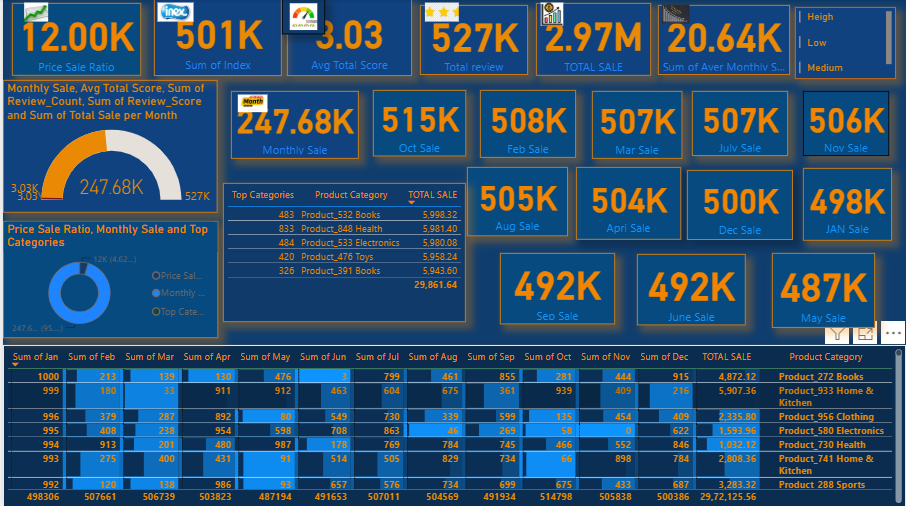

This screenshot's page, from the dashboard's own definition file:
{"tool":"powerbi","page":{"name":"Details","canvas":[1280,720],"ordinal":2},"visuals":[{"type":"tableEx","fields":{"Values":["Sum(Table1_2.Jan)","Sum(Table1_2.Feb)","Sum(Table1_2.Mar)","Sum(Table1_2.Apr)","Sum(Table1_2.May)","Sum(Table1_2.Jun)","Sum(Table1_2.Jul)","Sum(Table1_2.Aug)","Sum(Table1_2.Sep)","Sum(Table1_2.Oct)","Sum(Table1_2.Nov)","Sum(Table1_2.Dec)"]},"box":[0,490.5,1280,230.1],"z":0},{"type":"gauge","fields":{"MaxValue":["Sum(Table1_2.Review_Count)"],"MinValue":["Dax Table.Avg Total Score"],"TargetValue":["Sum(Table1_2.Review_Score)"],"Y":["Dax Table.Monthly Sale"]},"box":[0,114.2,304,188.1],"z":1000},{"type":"card","fields":{"Values":["Dax Table.Monthly Sale"]},"box":[323.1,130.4,181.4,96.4],"z":2000},{"type":"card","fields":{"Values":["Dax Table.TOTAL SALE"]},"box":[755.4,5.7,163,103.5],"z":3000},{"type":"card","fields":{"Values":["Dax Table.Total review"]},"box":[591,8.5,153.1,99.2],"z":4000},{"type":"card","fields":{"Values":["Dax Table.Avg Total Score"]},"box":[402.5,0,177.2,109.1],"z":5000},{"type":"card","fields":{"Values":["Sum(Table1_2.Index)"]},"box":[214,0,181.4,109.1],"z":6000},{"type":"card","fields":{"Values":["Sum(Table1_2.Aver Monthly Sale)"]},"box":[928.3,8.5,187.1,99.2],"z":7000},{"type":"multiRowCard","fields":{"Values":["Table1_2.Rating"]},"box":[1122.5,11.3,143.1,102],"z":8000},{"type":"image","box":[214,0,60.9,36.9],"z":9000},{"type":"image","box":[395.4,0,60.9,49.6],"z":10000},{"type":"image","box":[540,0,164.4,36.9],"z":11000},{"type":"image","box":[744.1,0,68,42.5],"z":12000},{"type":"image","box":[919.8,2.8,66.6,36.9],"z":13000},{"type":"image","box":[311.8,130.4,83.6,35.4],"z":14000},{"type":"card","fields":{"Values":["Dax Table.Price Sale Ratio"]},"box":[12.8,5.7,182.8,103.5],"z":15000},{"type":"donutChart","fields":{"Y":["Dax Table.Price Sale Ratio","Dax Table.Monthly Sale","Dax Table.Top Categories"]},"box":[0,314.6,304.7,165.8],"z":16000},{"type":"card","fields":{"Values":["Dax Table.JAN Sale"]},"box":[1133.9,239.5,126.1,103.5],"z":17000},{"type":"card","fields":{"Values":["Dax Table.May Sale"]},"box":[1089.9,360,146,106.3],"z":18000},{"type":"card","fields":{"Values":["Dax Table.Sep Sale"]},"box":[704.4,360,163,100.6],"z":19000},{"type":"card","fields":{"Values":["Dax Table.Feb Sale"]},"box":[676.1,129,136.1,96.4],"z":20000},{"type":"card","fields":{"Values":["Dax Table.Mar Sale"]},"box":[834.8,130.4,127.6,96.4],"z":21000},{"type":"card","fields":{"Values":["Dax Table.Apri Sale"]},"box":[812.1,238.1,148.8,103.5],"z":22000},{"type":"card","fields":{"Values":["Dax Table.June Sale"]},"box":[898.6,361.4,154.5,100.6],"z":23000},{"type":"card","fields":{"Values":["Dax Table.July Sale"]},"box":[976.5,130.4,136.1,92.1],"z":24000},{"type":"card","fields":{"Values":["Dax Table.Aug Sale"]},"box":[657.6,238.1,143.1,97.8],"z":25000},{"type":"card","fields":{"Values":["Dax Table.Oct Sale"]},"box":[524.4,129,131.8,93.5],"z":26000},{"type":"card","fields":{"Values":["Dax Table.Nov Sale"]},"box":[1133.9,130.4,121.9,92.1],"z":27000},{"type":"card","fields":{"Values":["Dax Table.December Sale"]},"box":[969.4,242.4,150.2,99.2],"z":28000},{"type":"image","box":[0,0,93.5,36.9],"z":29000},{"type":"tableEx","fields":{"Values":["Dax Table.Top Categories","Table1_2.Product  Category","Dax Table.TOTAL SALE"]},"box":[311.8,260.8,344.4,197],"z":30000}]}

Visuals, with their boxes in screenshot pixels (x1, y1, x2, y2), scaled from the page's 1280x720 canvas onto the 906x506 screenshot:
tableEx - Sum(Table1_2.Jan) x Sum(Table1_2.Feb): [x1=0, y1=345, x2=905, y2=505]
gauge - Sum(Table1_2.Review_Count) x Dax Table.Avg Total Score: [x1=0, y1=80, x2=215, y2=212]
card - Dax Table.Monthly Sale: [x1=229, y1=92, x2=357, y2=159]
card - Dax Table.TOTAL SALE: [x1=535, y1=4, x2=650, y2=77]
card - Dax Table.Total review: [x1=418, y1=6, x2=527, y2=76]
card - Dax Table.Avg Total Score: [x1=285, y1=0, x2=410, y2=77]
card - Sum(Table1_2.Index): [x1=151, y1=0, x2=280, y2=77]
card - Sum(Table1_2.Aver Monthly Sale): [x1=657, y1=6, x2=789, y2=76]
multiRowCard - Table1_2.Rating: [x1=795, y1=8, x2=896, y2=80]
image: [x1=151, y1=0, x2=195, y2=26]
image: [x1=280, y1=0, x2=323, y2=35]
image: [x1=382, y1=0, x2=499, y2=26]
image: [x1=527, y1=0, x2=575, y2=30]
image: [x1=651, y1=2, x2=698, y2=28]
image: [x1=221, y1=92, x2=280, y2=117]
card - Dax Table.Price Sale Ratio: [x1=9, y1=4, x2=138, y2=77]
donutChart - Dax Table.Price Sale Ratio x Dax Table.Monthly Sale: [x1=0, y1=221, x2=216, y2=338]
card - Dax Table.JAN Sale: [x1=803, y1=168, x2=892, y2=241]
card - Dax Table.May Sale: [x1=771, y1=253, x2=875, y2=328]
card - Dax Table.Sep Sale: [x1=499, y1=253, x2=614, y2=324]
card - Dax Table.Feb Sale: [x1=479, y1=91, x2=575, y2=158]
card - Dax Table.Mar Sale: [x1=591, y1=92, x2=681, y2=159]
card - Dax Table.Apri Sale: [x1=575, y1=167, x2=680, y2=240]
card - Dax Table.June Sale: [x1=636, y1=254, x2=745, y2=325]
card - Dax Table.July Sale: [x1=691, y1=92, x2=788, y2=156]
card - Dax Table.Aug Sale: [x1=465, y1=167, x2=567, y2=236]
card - Dax Table.Oct Sale: [x1=371, y1=91, x2=464, y2=156]
card - Dax Table.Nov Sale: [x1=803, y1=92, x2=889, y2=156]
card - Dax Table.December Sale: [x1=686, y1=170, x2=792, y2=240]
image: [x1=0, y1=0, x2=66, y2=26]
tableEx - Dax Table.Top Categories x Table1_2.Product  Category: [x1=221, y1=183, x2=464, y2=322]
